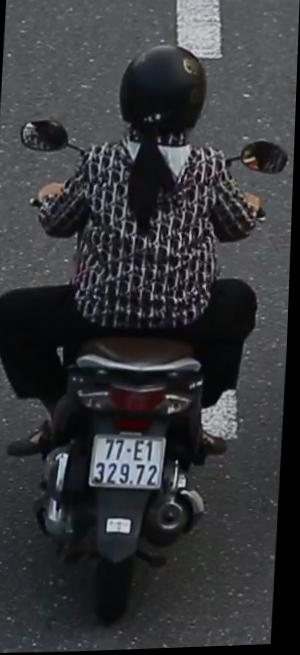LP: (90, 428, 173, 498)
helmet: (111, 41, 213, 155)
